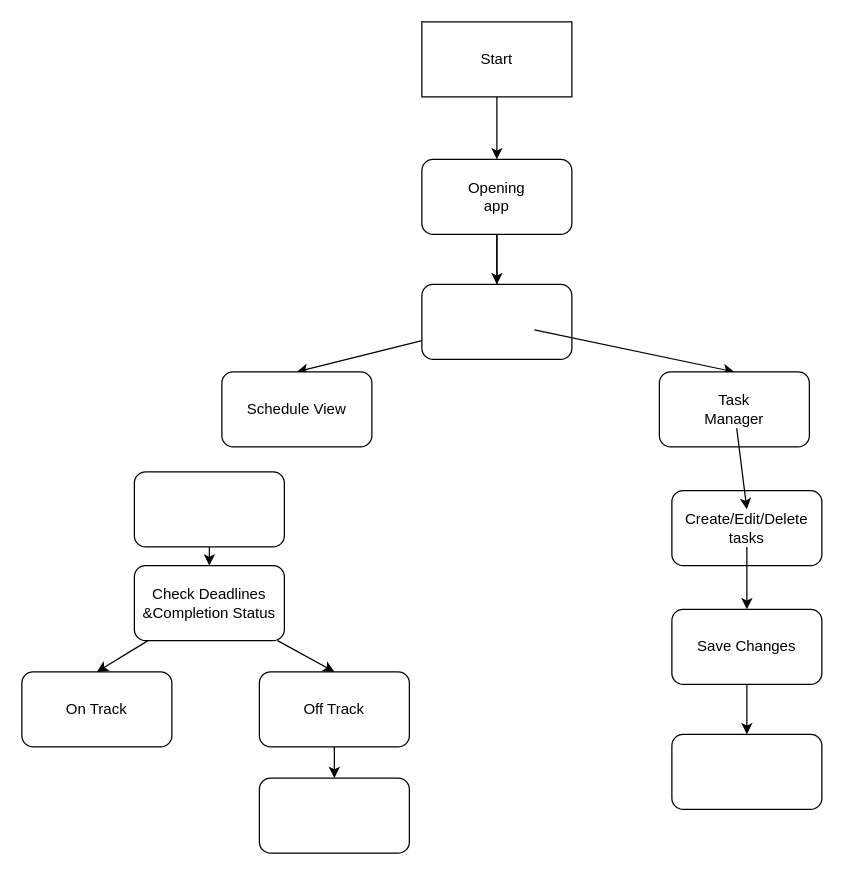
This 844x875 diagram has some shape labels left out. The centre of each missing label's shape, as x and y in pixels:
Alert/Reminder: (x=333, y=815)
JSON Storage: (x=746, y=771)
Main Dashboard: (x=496, y=321)
Progress Tracker: (x=208, y=509)
